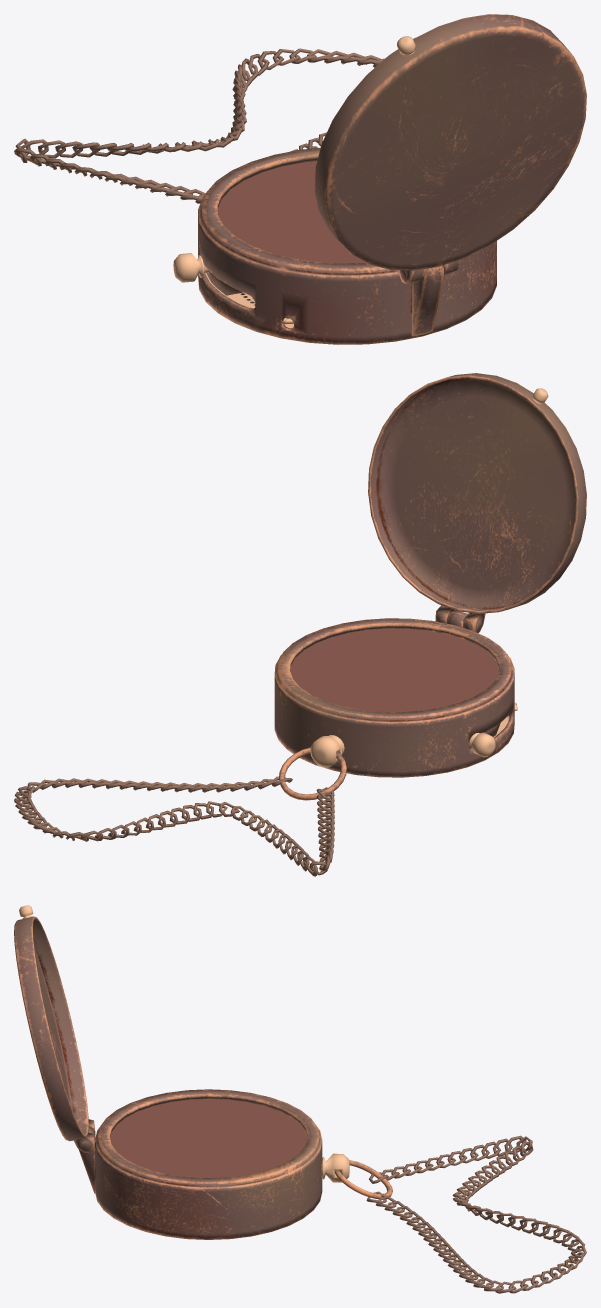
File: compass_final.obj
3 renders of one model, top to bottom at view 1: azimuth 30°, elevation 25°; view 2: azimuth 150°, elevation 25°; view 3: azimuth 270°, elevation 25°, orthographic. The views are drawn at different scales.
Parts seen in each view (by area): view 1: compass; view 2: compass; view 3: compass.
Part boxes in pixels (bbox=[...]): compass: bbox=[14, 14, 586, 344]; compass: bbox=[14, 373, 586, 876]; compass: bbox=[14, 905, 586, 1293].
Bounding box in the file's own units: 3.23 × 2.61 × 5.04.
Materials: 1 (1 with a texture image).
